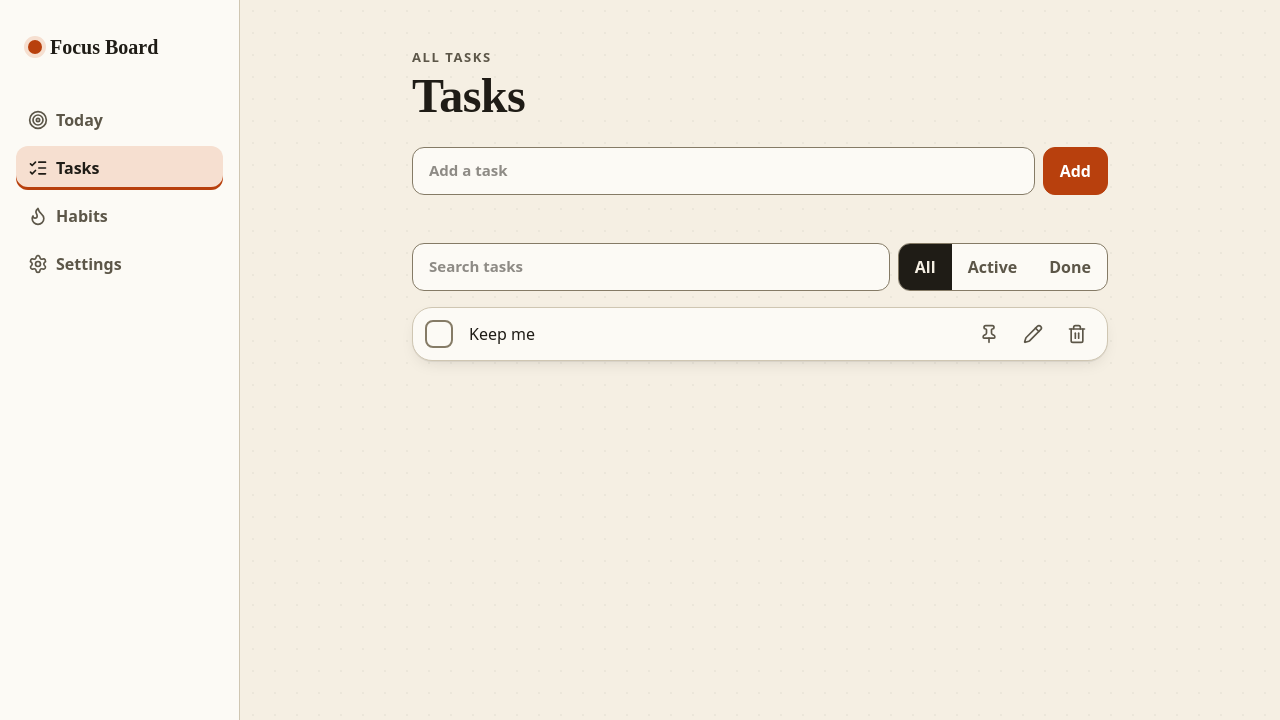
Test case: AC3: editing tasks › cancels on Escape without saving
Click the button named "Edit “Keep me”" at [1033, 334], box [1011,312,1055,356]
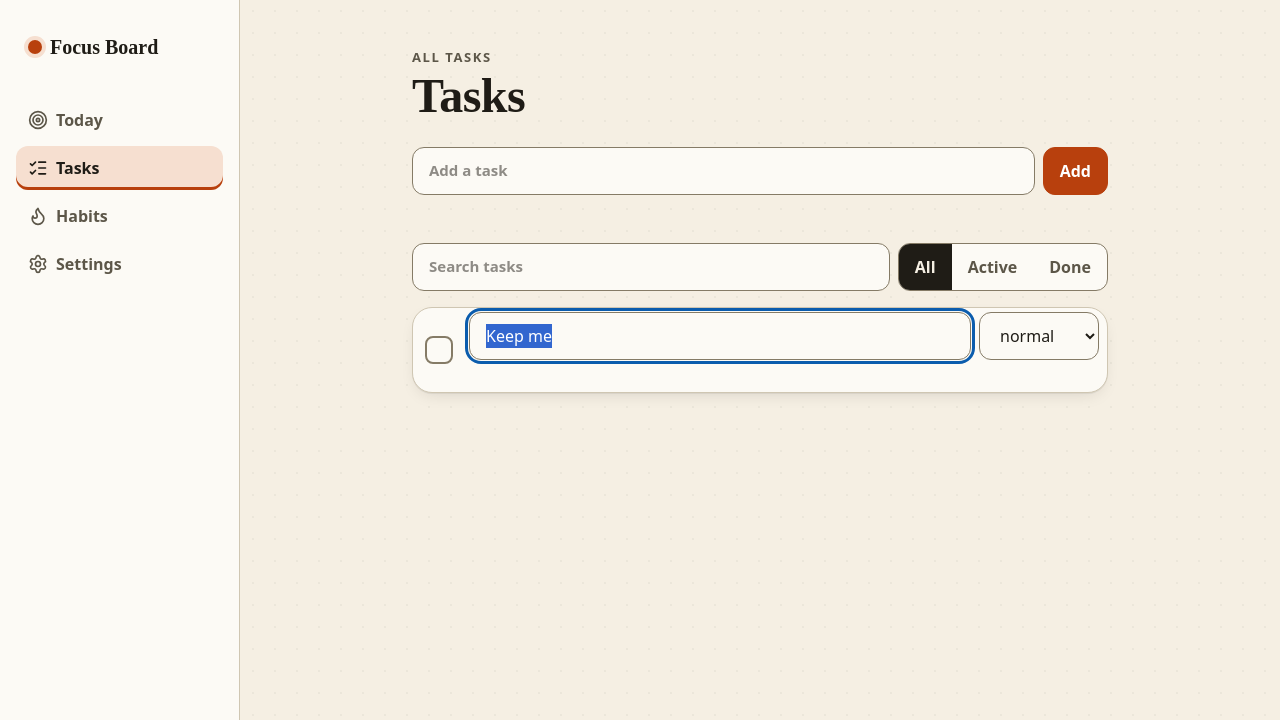
Replace the text in the field named "Task title" with "Changed" at [720, 336], box [469,312,971,360]
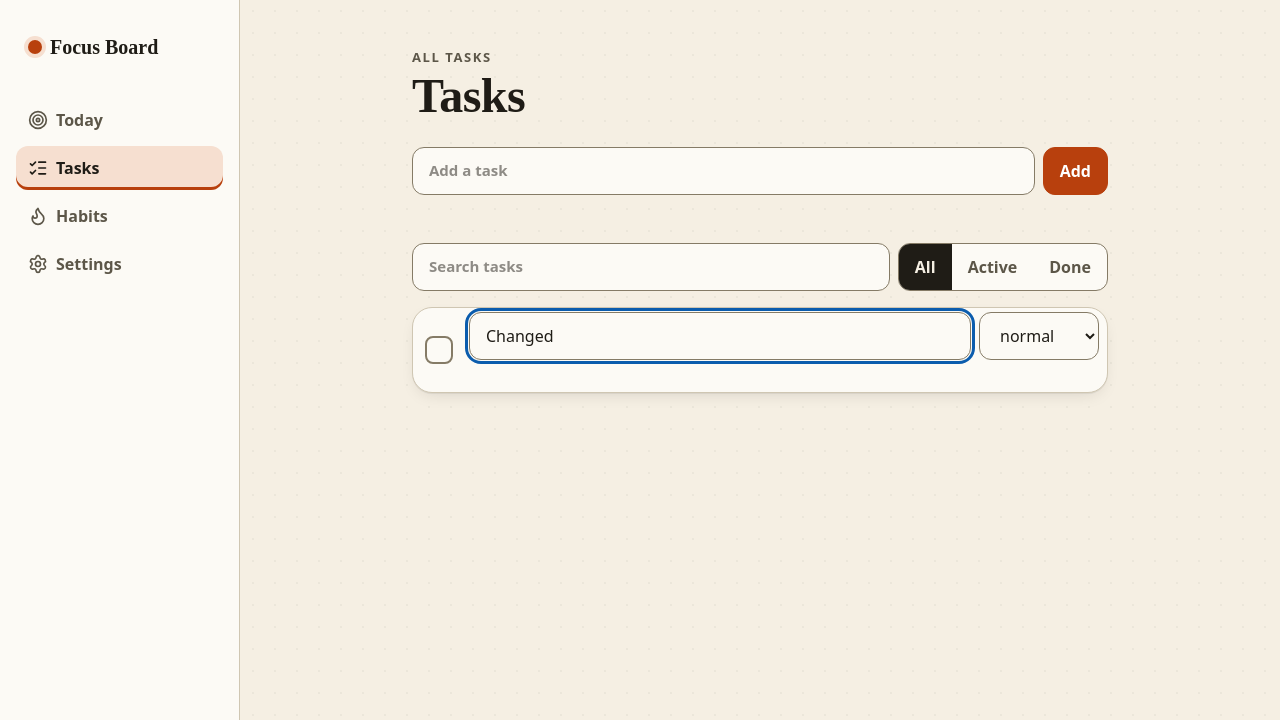
Press Escape
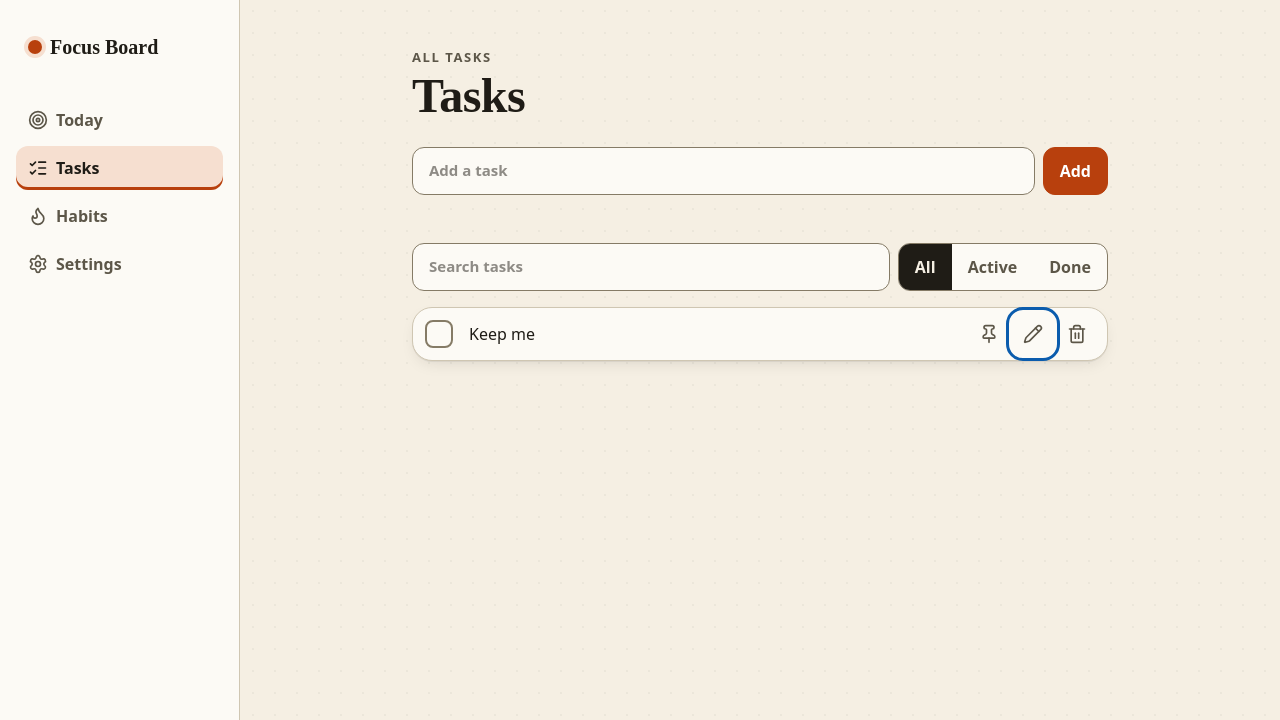
expect the list named "Tasks" reads "Keep me": met, box [469,323,535,345]
expect the text "Keep me" is shown: met, box [469,323,535,345]
